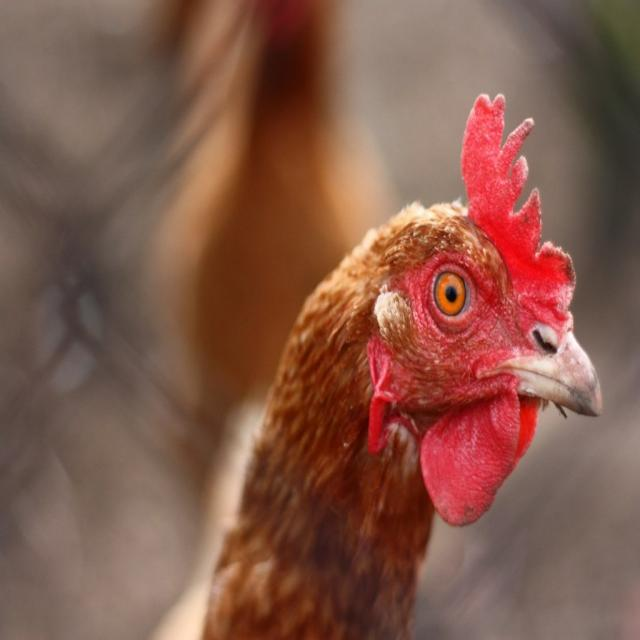Chicken: (200, 93, 601, 640)
